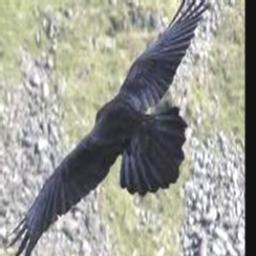Crow: (5, 0, 210, 256)
